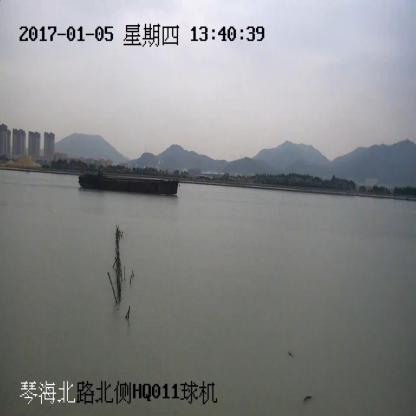Bulk Carrier: (79, 170, 179, 196)
